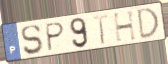9: (69, 16, 89, 49)
D: (136, 6, 161, 41)
H: (112, 9, 139, 44)
P: (45, 21, 66, 53)
S: (20, 24, 44, 57)
T: (92, 13, 110, 47)
